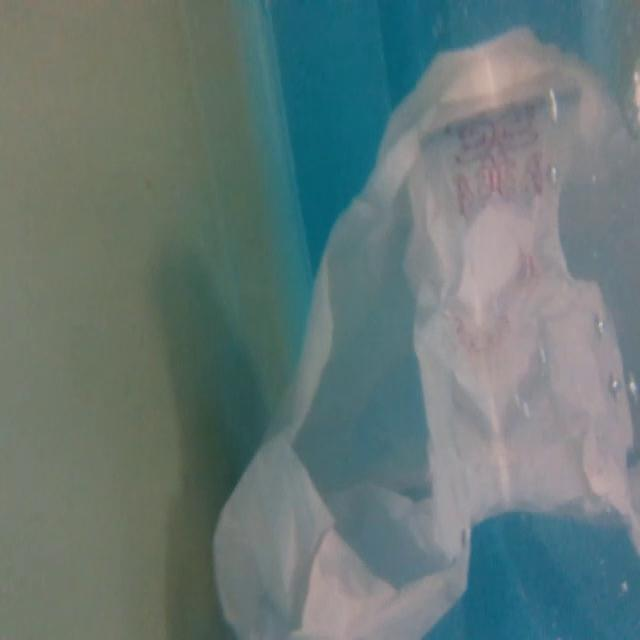plastic bags: (206, 21, 640, 639)
